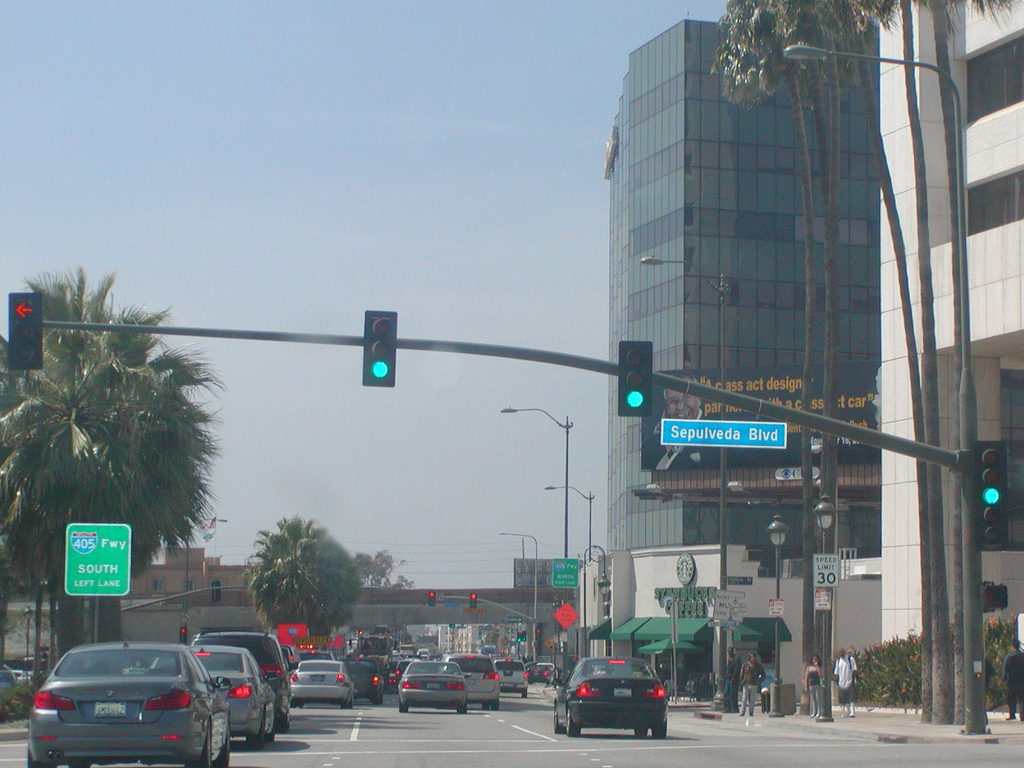traffic_light: (972, 439, 1010, 545), (360, 308, 400, 389), (6, 290, 45, 373), (616, 339, 654, 419)
